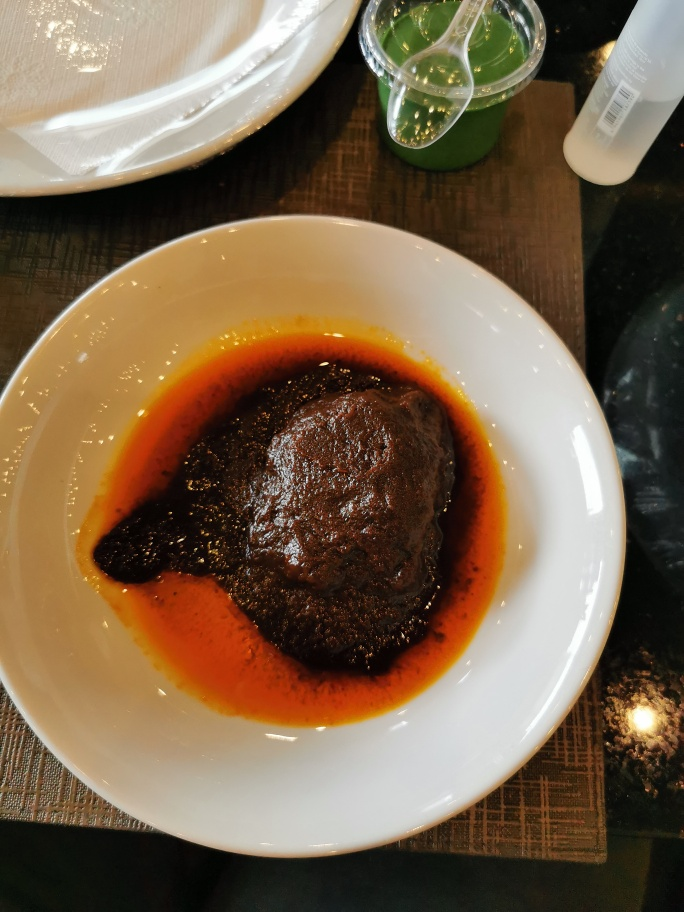rendang: (178, 365, 489, 688)
